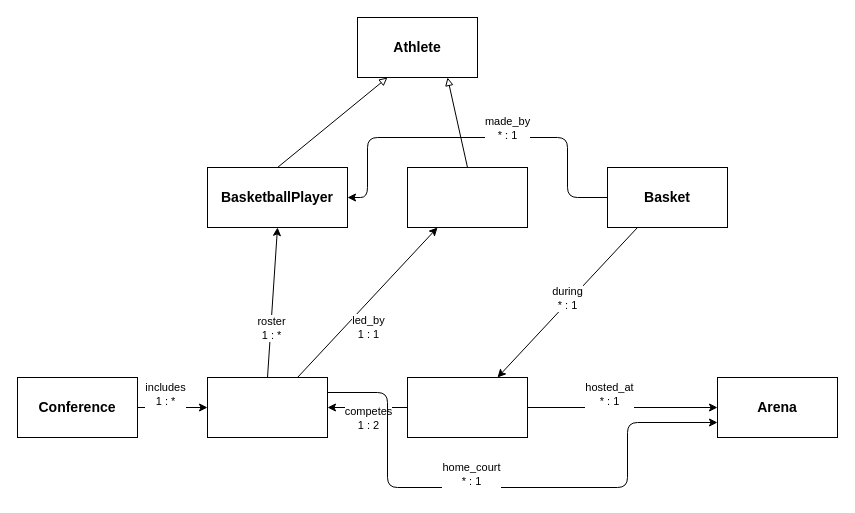
Some shapes in this 855 by 513 pixel diagram are drawn without their labels. The box of each missing label's shape, as (x1, y1, x2, y2) in pixels:
Game: (406, 376, 528, 438)
HeadCoach: (406, 166, 528, 228)
Team: (206, 376, 328, 438)
